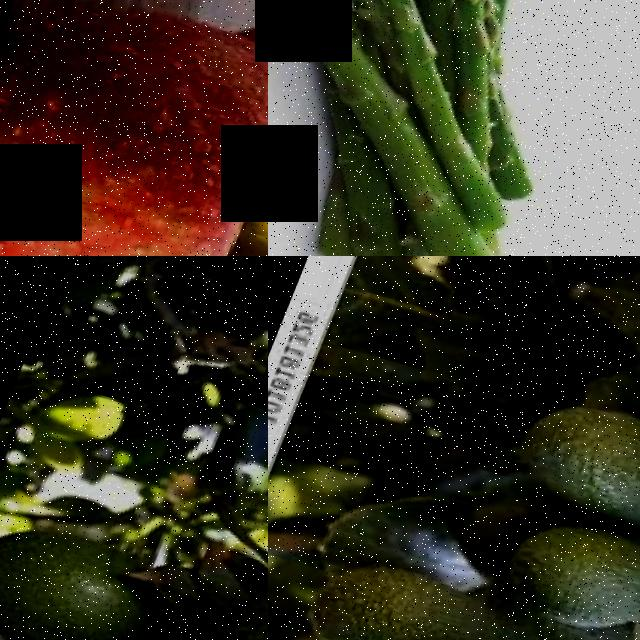apple: (0, 0, 268, 256)
asparagus: (268, 0, 640, 147)
avocado: (0, 503, 249, 640), (488, 379, 640, 558), (296, 549, 582, 640), (485, 498, 640, 640)
